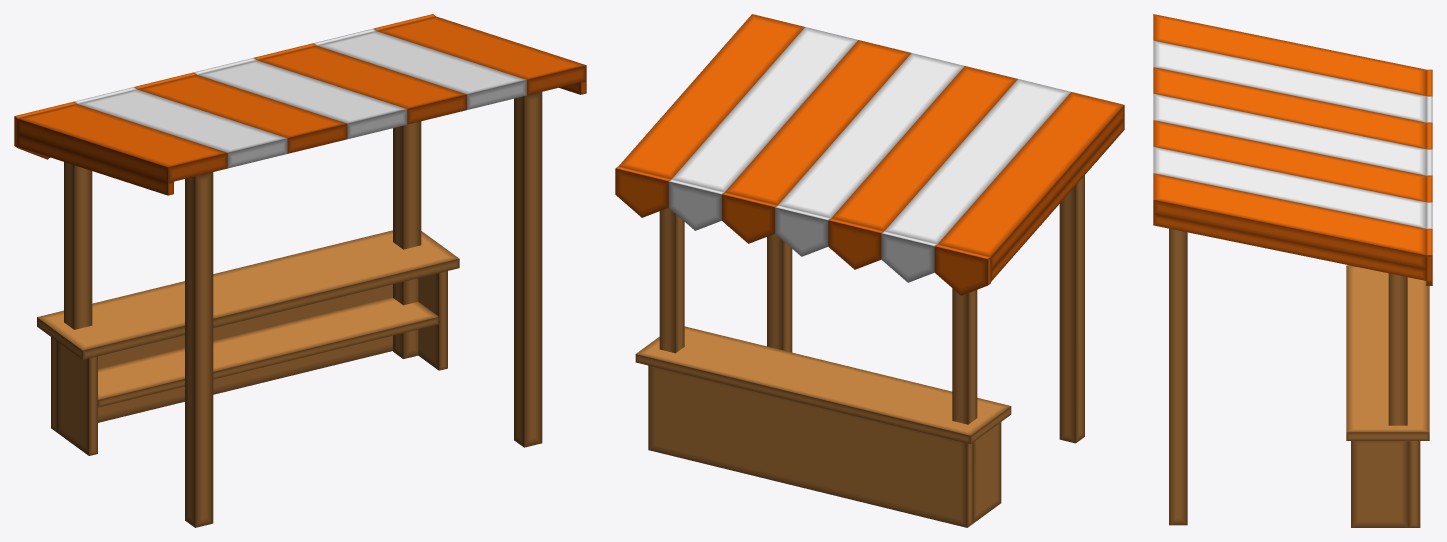
The model's file is ShopStall.fbx.
3 views of the same model, side by side, from view 1: azimuth 30°, elevation 25°; view 2: azimuth 150°, elevation 25°; view 3: azimuth 270°, elevation 25° (orthographic). The views are drawn at different scales.
Parts seen in each view (by area): view 1: ShopStall_Wood, ShopStall_StripeColor, ShopStall_StripeWhite; view 2: ShopStall_Wood, ShopStall_StripeColor, ShopStall_StripeWhite; view 3: ShopStall_StripeColor, ShopStall_Wood, ShopStall_StripeWhite.
Part boxes in pixels (<box>): ShopStall_Wood: <box>37,92,542,527</box>; ShopStall_StripeColor: <box>14,14,586,195</box>; ShopStall_StripeWhite: <box>74,28,526,168</box>; ShopStall_Wood: <box>635,175,1084,527</box>; ShopStall_StripeColor: <box>615,14,1124,295</box>; ShopStall_StripeWhite: <box>668,27,1070,282</box>; ShopStall_StripeColor: <box>1153,14,1432,285</box>; ShopStall_Wood: <box>1169,228,1429,527</box>; ShopStall_StripeWhite: <box>1153,40,1432,228</box>.
Bounding box in the file's own units: 14 × 12 × 8.9.
